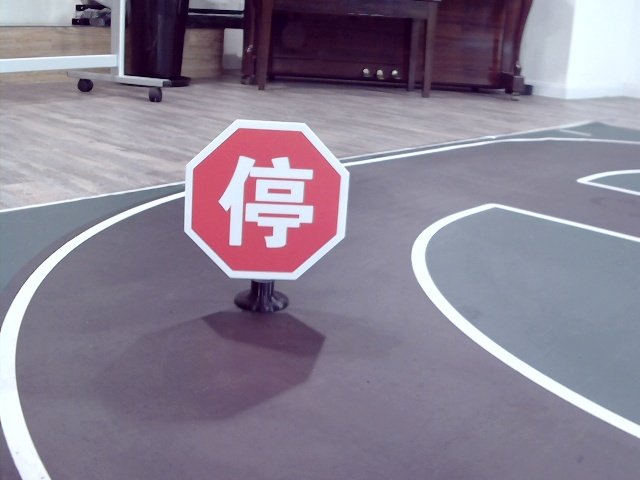stop: (217, 152, 314, 249)
